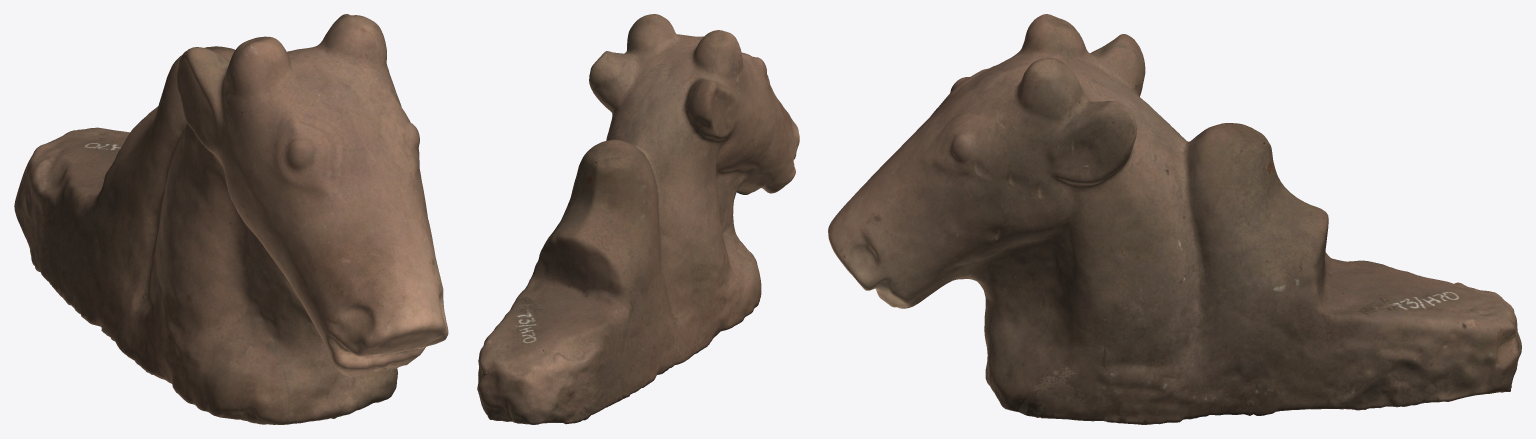
Rendered from Museum_warehousetuongbothan_final.glb.
3 renders of one model, left to right at view 1: azimuth 30°, elevation 25°; view 2: azimuth 150°, elevation 25°; view 3: azimuth 270°, elevation 25°, orthographic. The views are drawn at different scales.
Bounding box in the file's own units: 0.2346 × 0.4459 × 0.7993.
Materials: 1 (1 with a texture image).
